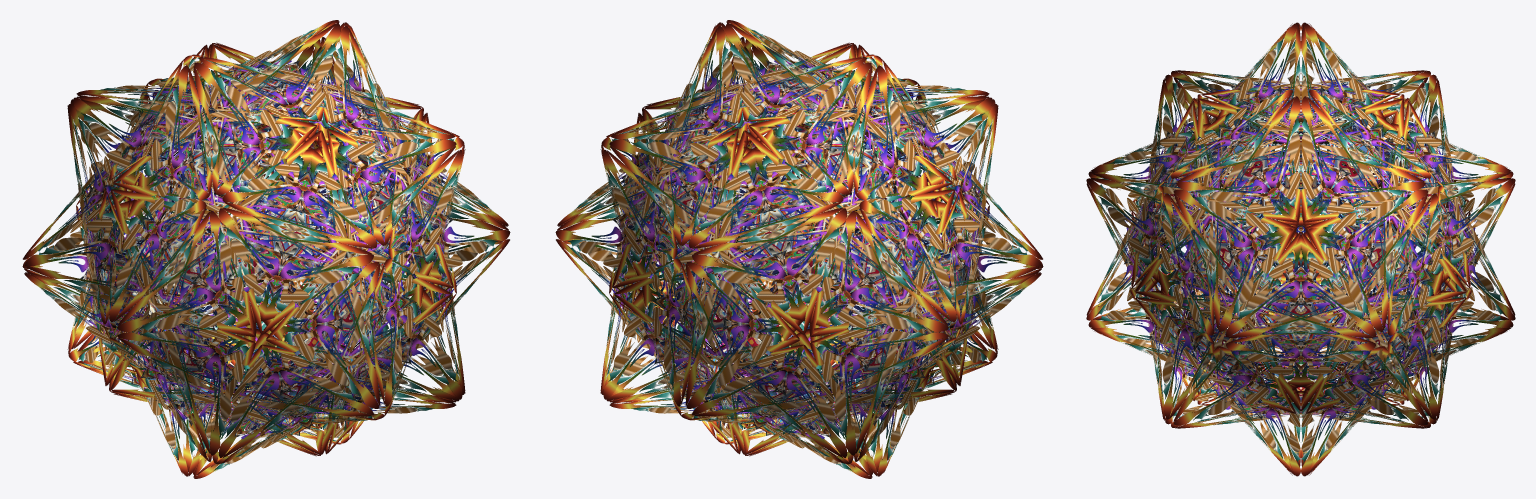
Rendered from MedialIcosacronicHexecontahedron12.gltf.
The picture shows the model from 3 angles, left to right: view 1: azimuth 30°, elevation 25°; view 2: azimuth 150°, elevation 25°; view 3: azimuth 270°, elevation 25°; orthographic projection. The views are drawn at different scales.
Parts seen in each view (by area): view 1: MedialIcosacronicHexecontahedron12; view 2: MedialIcosacronicHexecontahedron12; view 3: MedialIcosacronicHexecontahedron12.
Boxes of the visible parts, x1,y1,x2,y2 form: MedialIcosacronicHexecontahedron12: [22, 20, 510, 478]; MedialIcosacronicHexecontahedron12: [555, 20, 1043, 478]; MedialIcosacronicHexecontahedron12: [1086, 22, 1515, 476].
Bounding box in the file's own units: 3.24 × 3.24 × 3.24.
1 material, 1 textured.
